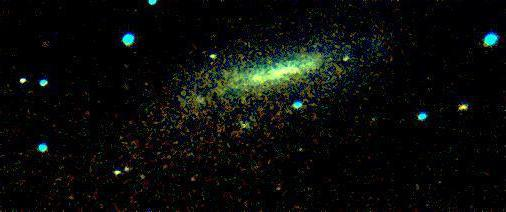star: (329, 41, 359, 71)
